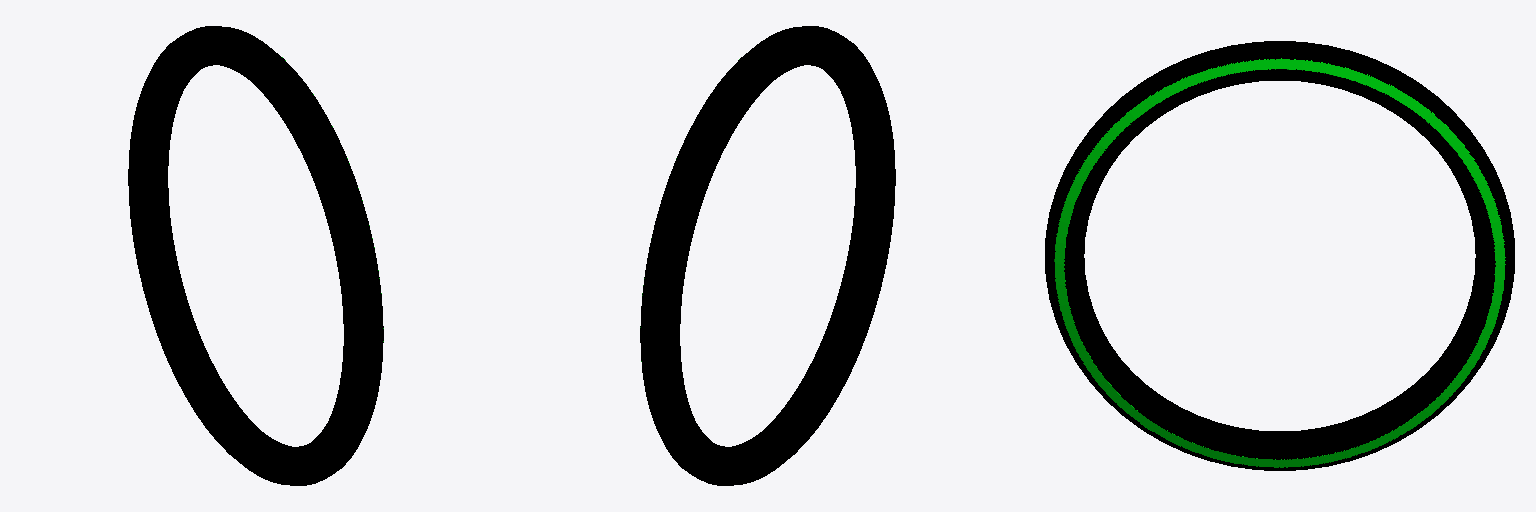
3 renders of one model, left to right at view 1: azimuth 30°, elevation 25°; view 2: azimuth 150°, elevation 25°; view 3: azimuth 270°, elevation 25°, orthographic.
Parts seen in each view (by area): view 1: Tourus-bake; view 2: Tourus-bake; view 3: Tourus-bake.
Boxes of the visible parts, box(x1,y1,x2,y2) form: Tourus-bake: box(128, 26, 383, 485); Tourus-bake: box(640, 26, 895, 485); Tourus-bake: box(1045, 41, 1514, 470).
Bounding box in the file's own units: 0.1 × 1.18 × 1.18.
1 materials, 1 textured.